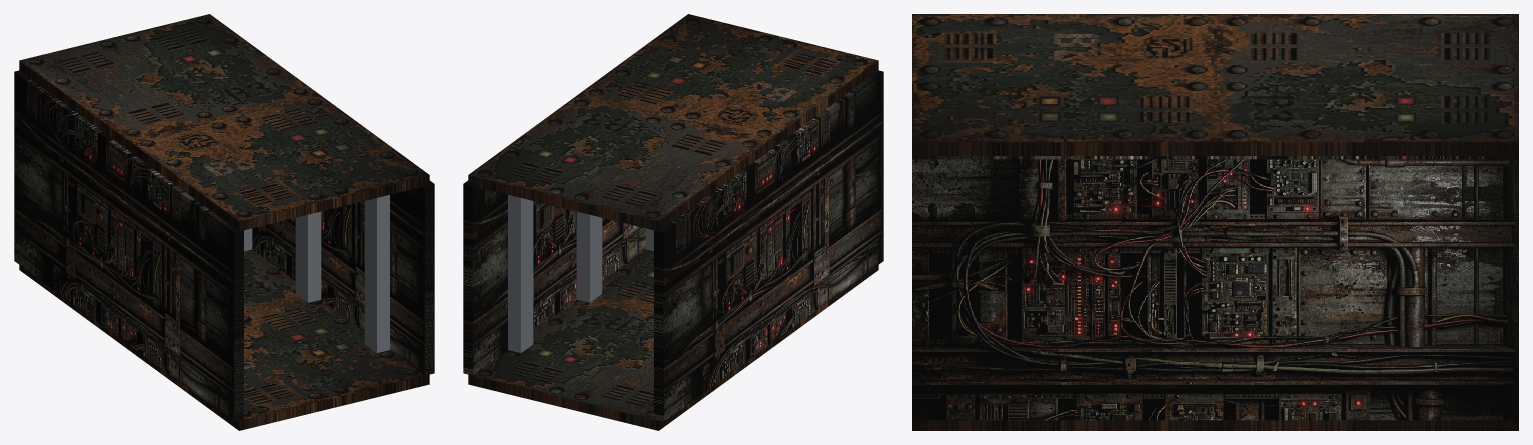
The model's file is server_corridor.glb.
The picture shows the model from 3 angles, left to right: view 1: azimuth 30°, elevation 25°; view 2: azimuth 150°, elevation 25°; view 3: azimuth 270°, elevation 25°; orthographic projection. The views are drawn at different scales.
Visible parts, largest first — view 1: ServerCorridor; view 2: ServerCorridor; view 3: ServerCorridor.
Boxes of the visible parts, x1=… form: ServerCorridor: x1=14, y1=14, x2=434, y2=430; ServerCorridor: x1=463, y1=14, x2=883, y2=430; ServerCorridor: x1=912, y1=14, x2=1518, y2=430.
Bounding box in the file's own units: 4.2 × 4.2 × 8.
3 materials, 2 textured.
